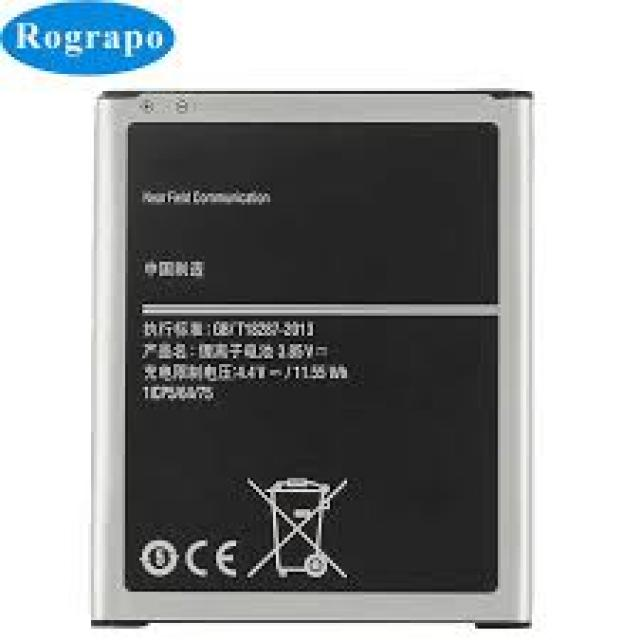non-organic waste: (96, 91, 532, 630)
